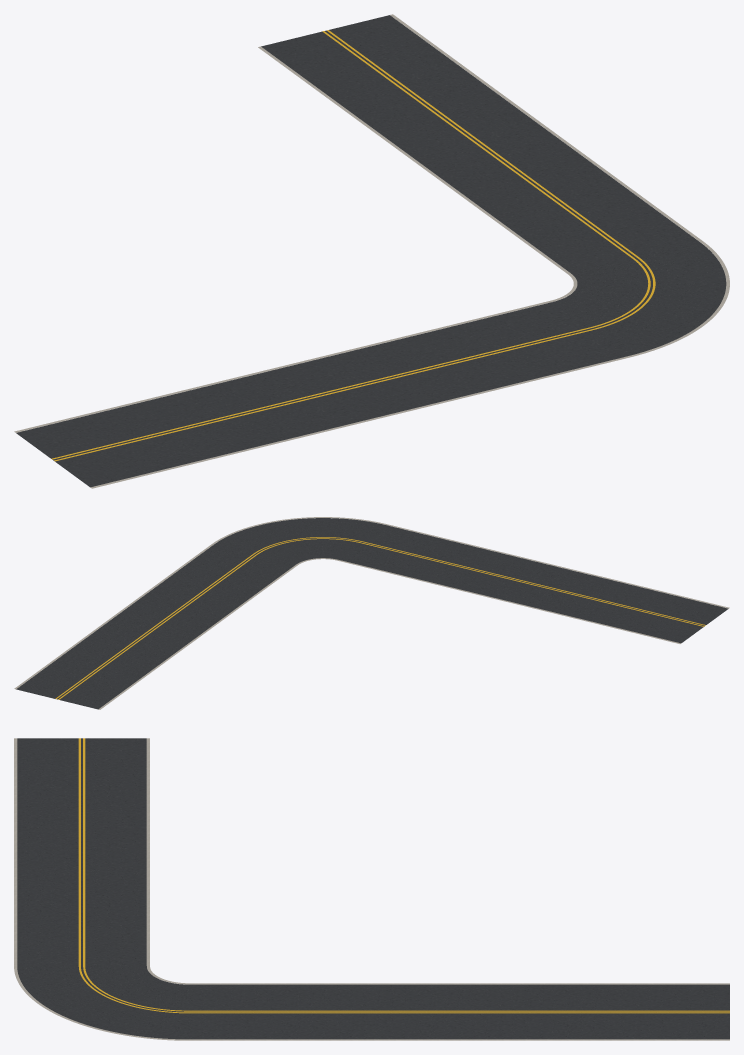
File: road_a_TurnNW.gltf
The picture shows the model from 3 angles, top to bottom: view 1: azimuth 30°, elevation 25°; view 2: azimuth 150°, elevation 25°; view 3: azimuth 270°, elevation 25°; orthographic projection. The views are drawn at different scales.
Parts seen in each view (by area): view 1: road_a_TurnNW; view 2: road_a_TurnNW; view 3: road_a_TurnNW.
Boxes of the visible parts, x1,y1,x2,y2 form: road_a_TurnNW: (14,14,729,488); road_a_TurnNW: (14,517,729,709); road_a_TurnNW: (14,738,729,1040).
Size of the model in its own units: 33.15 by 0.0045 by 33.15.
Materials: 2 (2 with a texture image).
